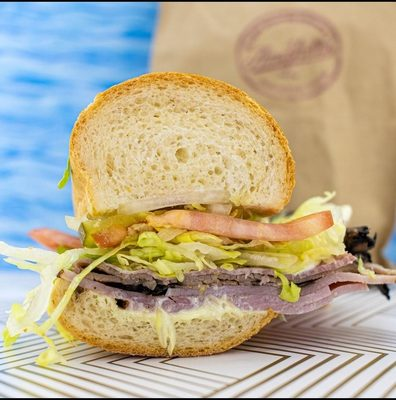soup: (30, 69, 358, 365)
taco: (234, 8, 346, 104)
